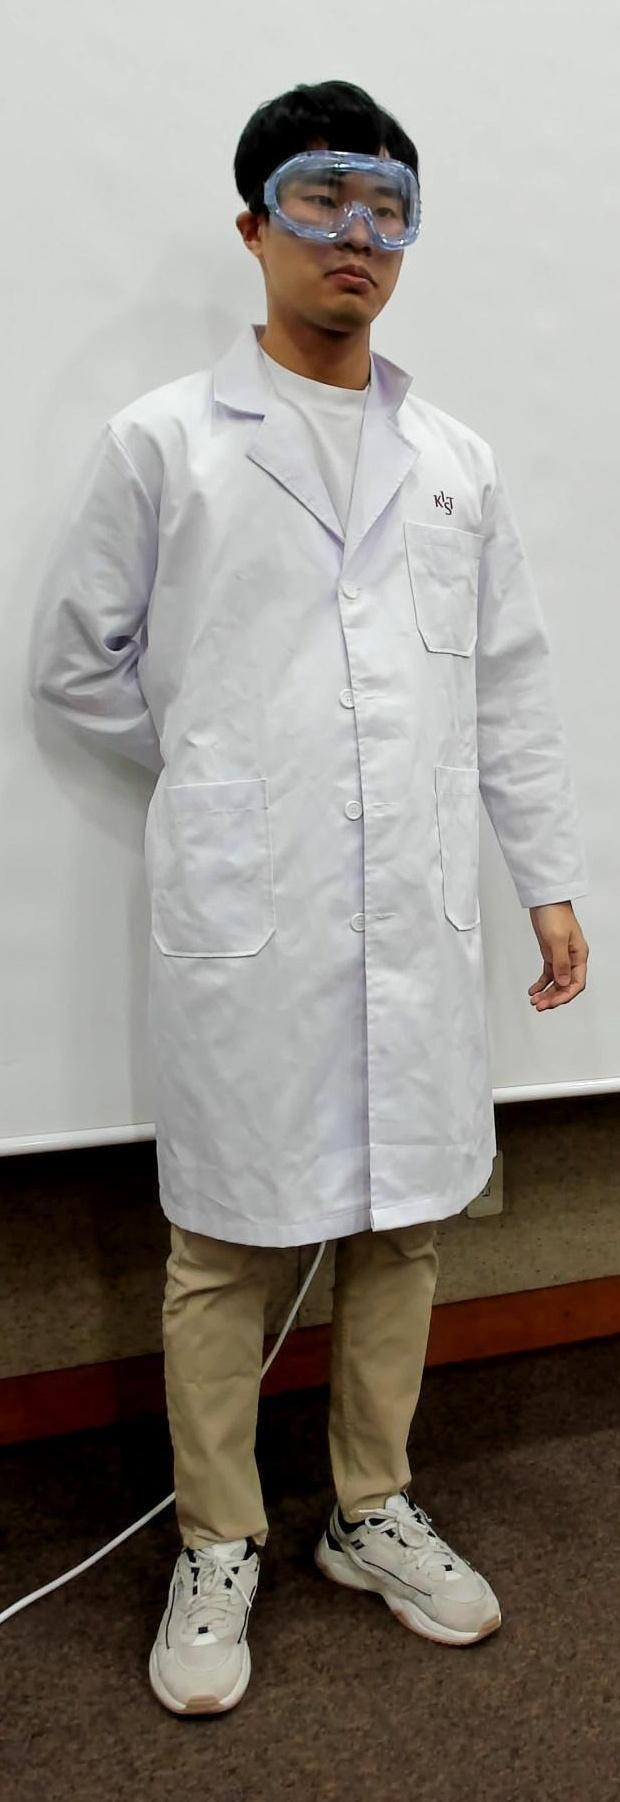lab_coat: (127, 438, 511, 1194)
